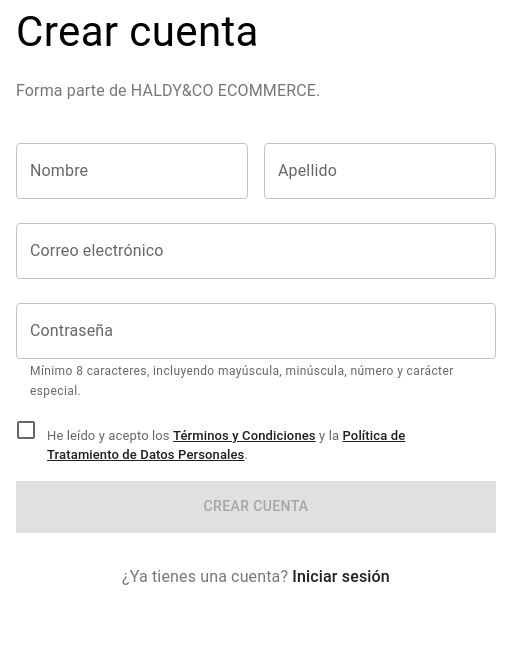
Test case: Register › blocks submission until the terms checkbox is accepted
Type "Ana" into the field labelled "Nombre".
click(132, 171); type("Ana")  # box [16,143,248,199]
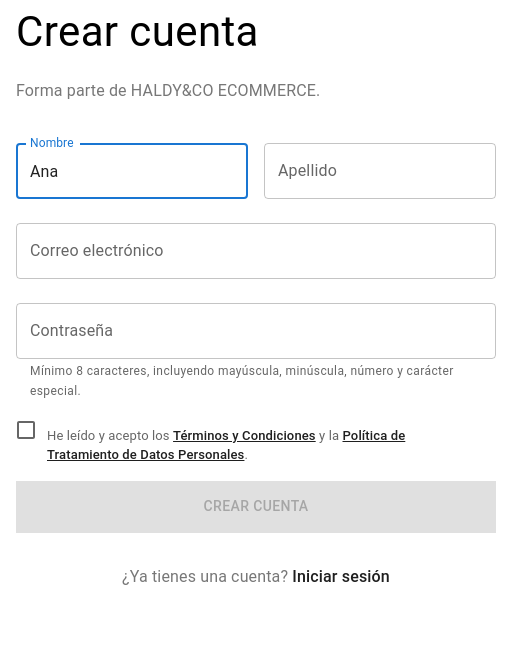
Type "Pérez" into the field labelled "Apellido".
click(380, 171); type("Pérez")  # box [264,143,496,199]
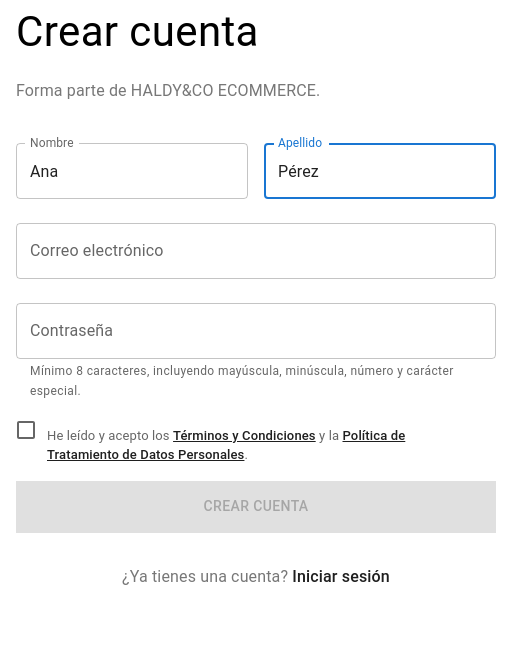
Type "ana@test.com" into the field labelled "Correo electrónico".
click(256, 251); type("ana@test.com")  # box [16,223,496,279]
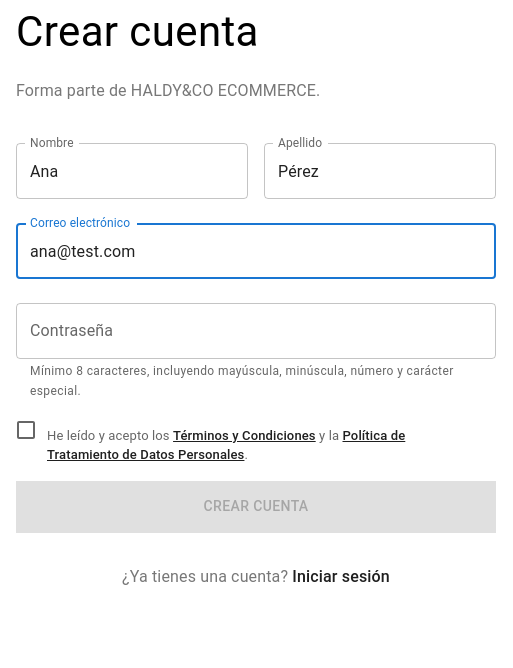
Type "Password123!" into the password field labelled "Contraseña".
click(256, 331); type("Password123!")  # box [16,303,496,359]
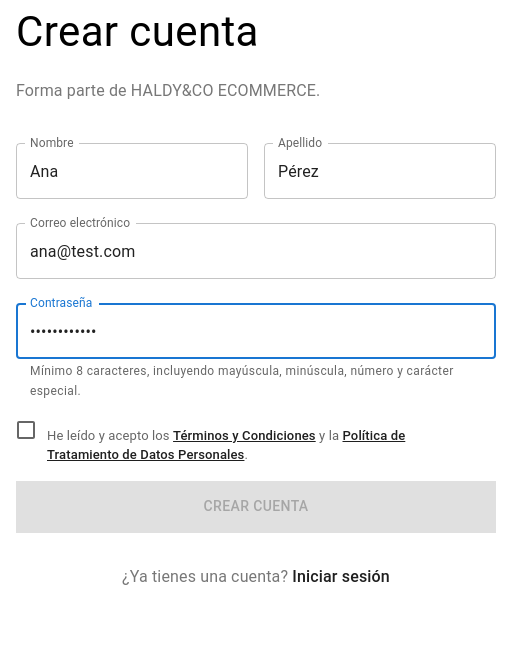
Expected: the button "Crear cuenta" is disabled, [16,481,496,532]
Submit the form, box [16,143,496,532]
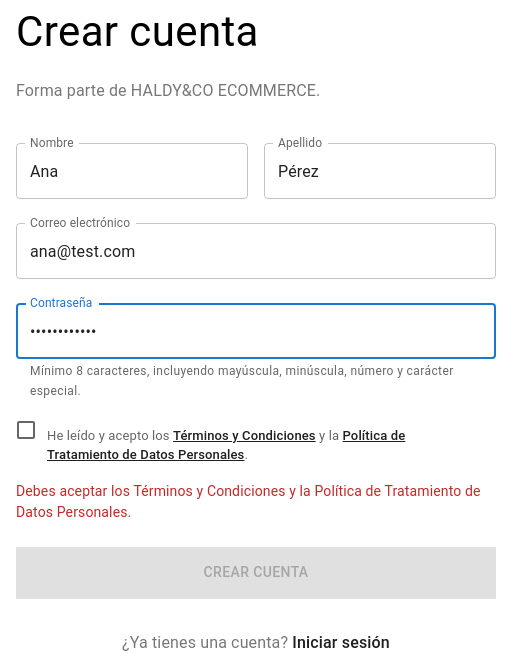
Now the text "Debes aceptar los Términos" is shown, box [16,483,480,520]
